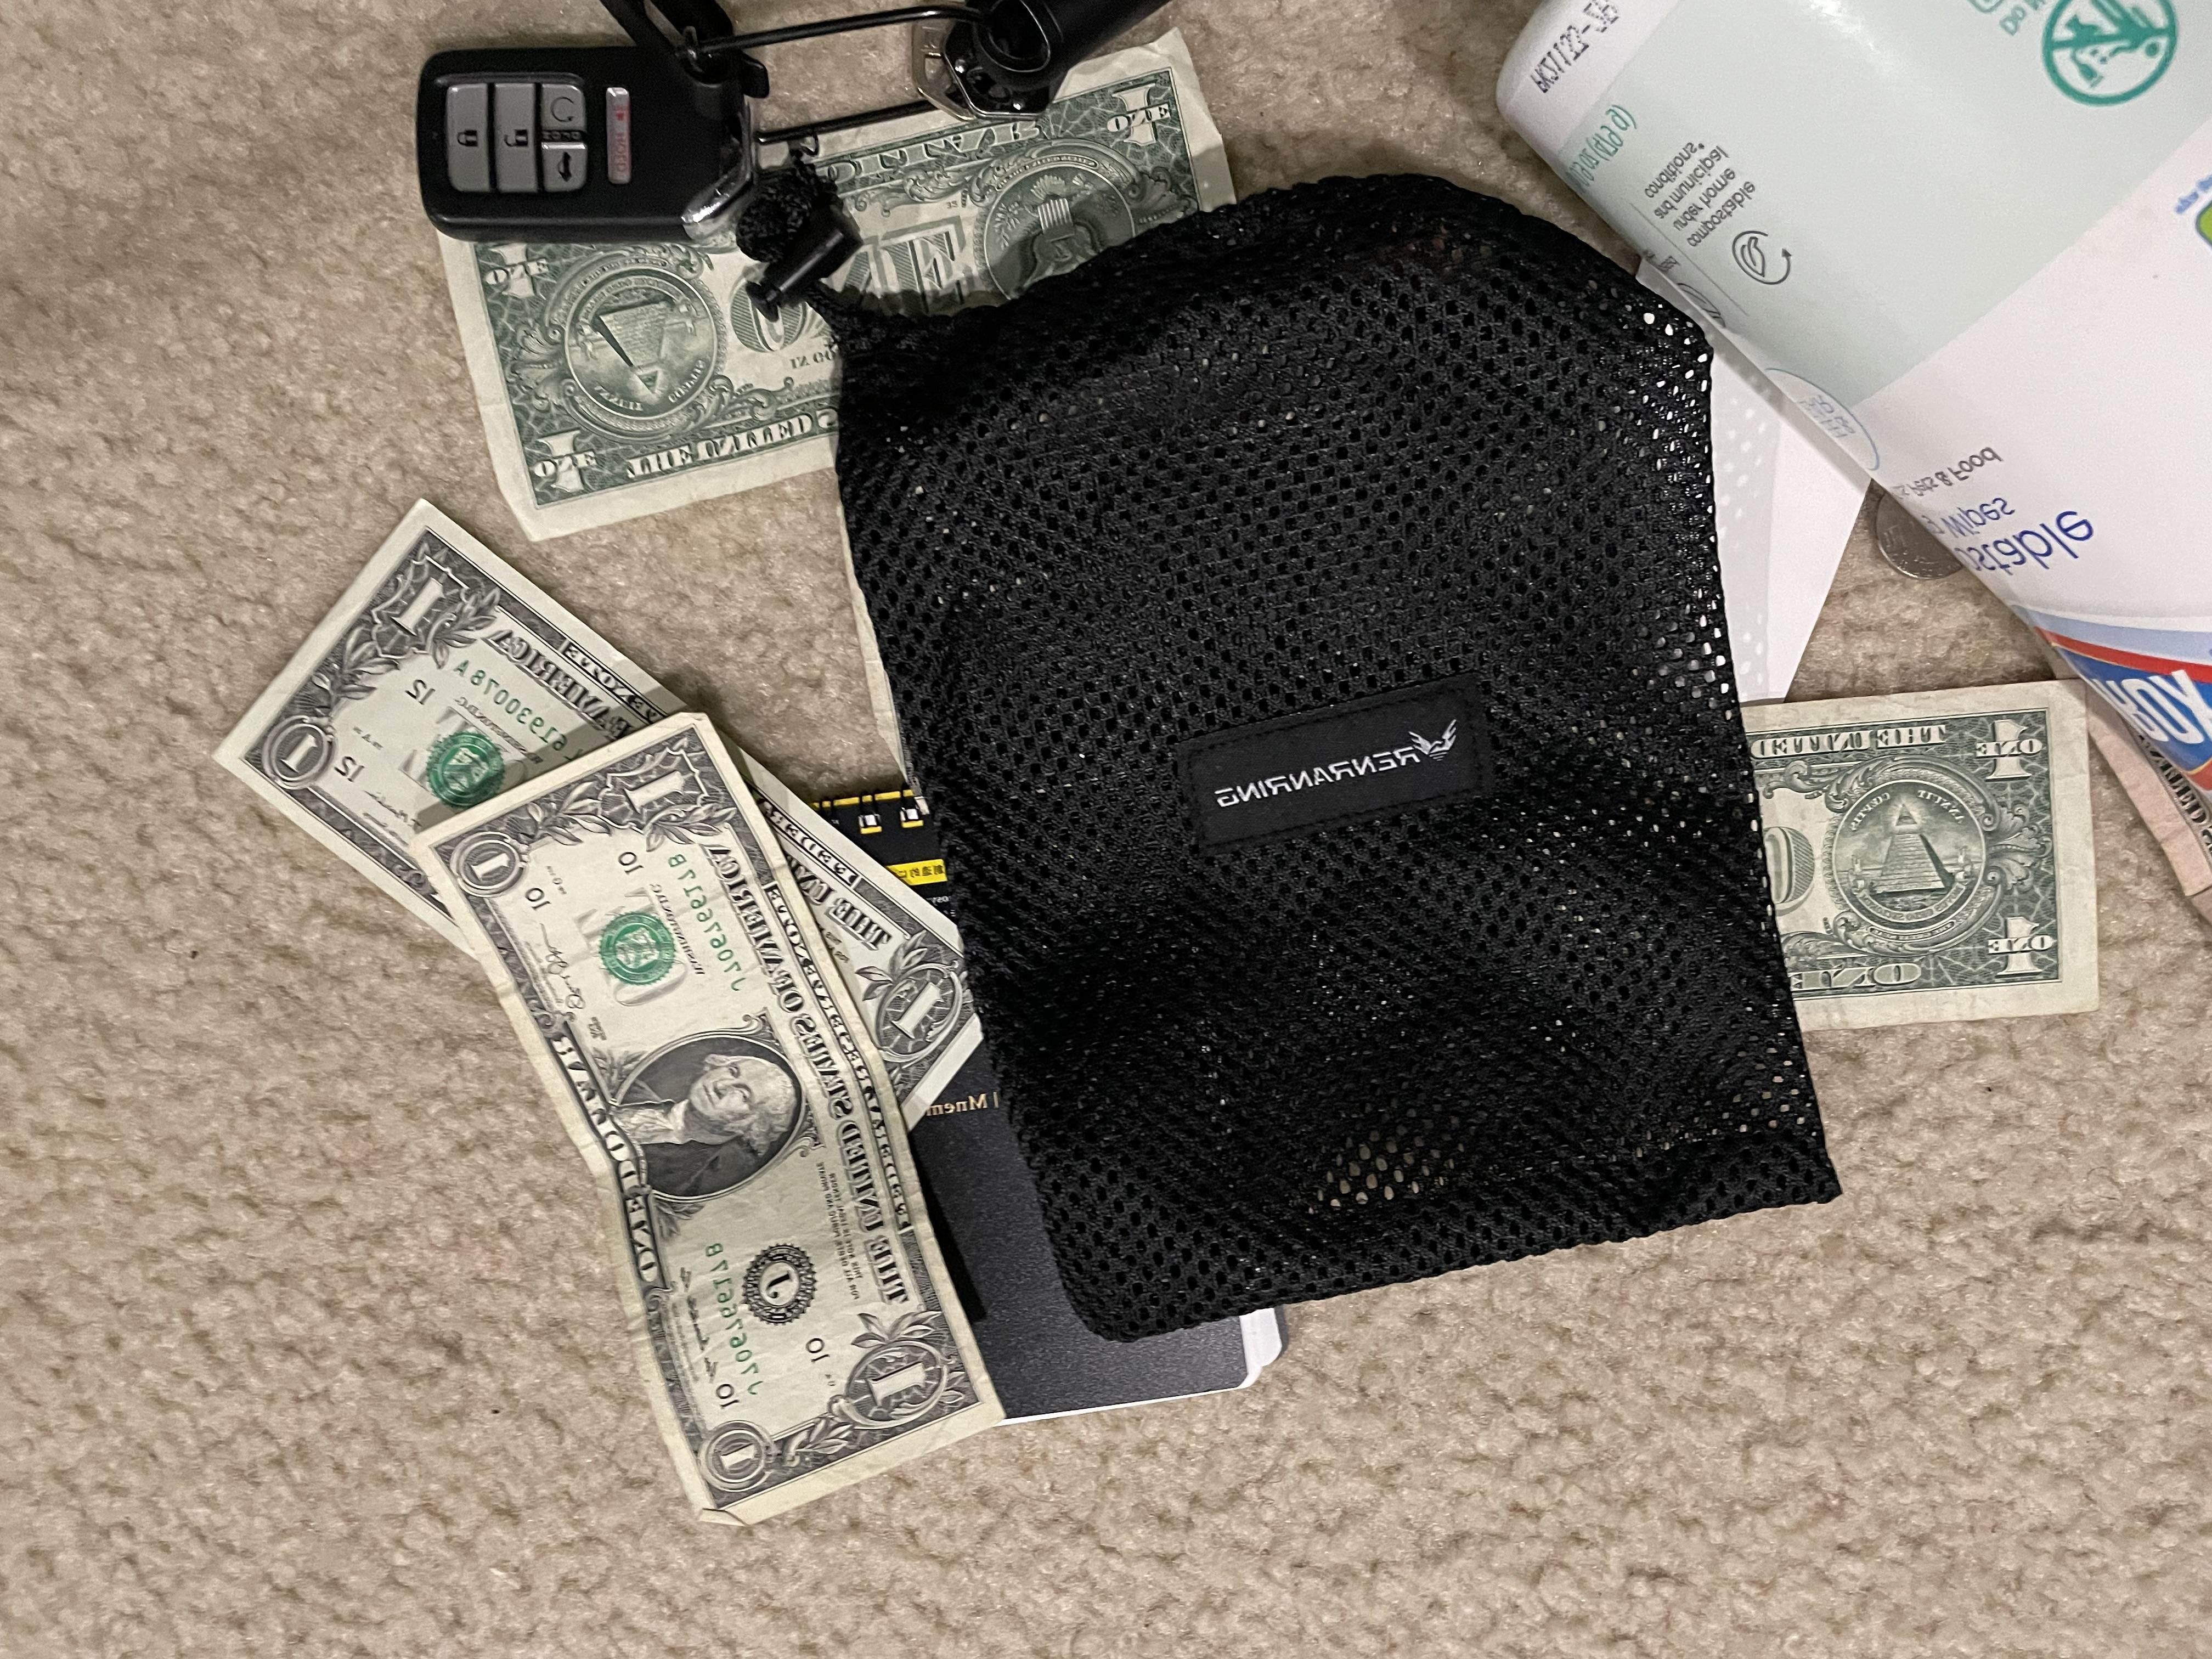OneBill: (408, 702, 1010, 1528), (212, 512, 991, 1143), (441, 73, 1231, 542), (1726, 683, 2097, 1040)
